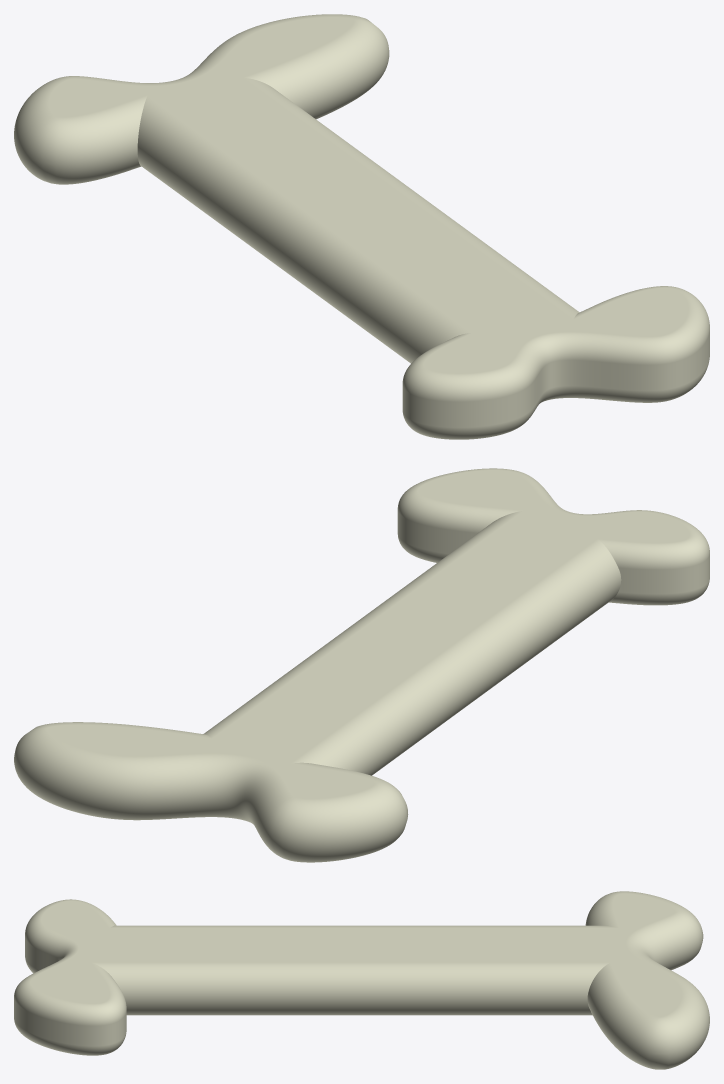
The model's file is BONE 1.fbx.
3 views of the same model, one above another, from view 1: azimuth 30°, elevation 25°; view 2: azimuth 150°, elevation 25°; view 3: azimuth 270°, elevation 25° (orthographic). The views are drawn at different scales.
Parts seen in each view (by area): view 1: bone 1; view 2: bone 1; view 3: bone 1.
Boxes of the visible parts, left/top/right/bottom form: bone 1: left=14, top=14, right=709, bottom=439; bone 1: left=14, top=468, right=709, bottom=862; bone 1: left=14, top=891, right=709, bottom=1069.
Size of the model in its own units: 62.56 by 10 by 126.
